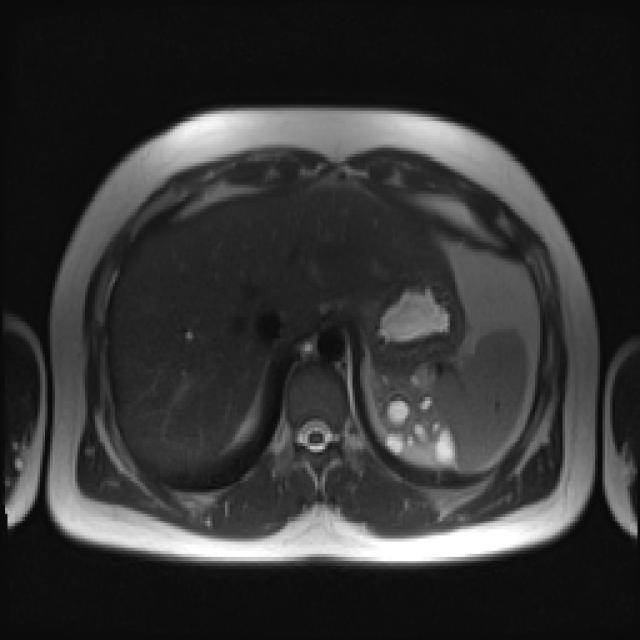sol: (369, 363, 458, 468)
